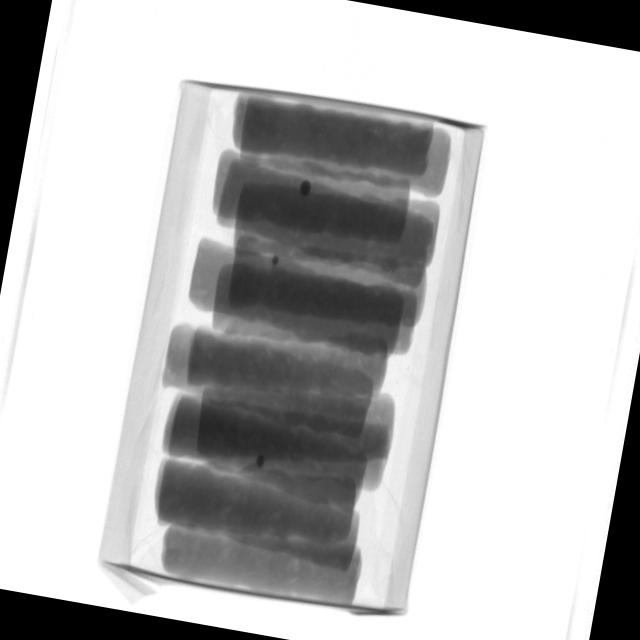ym: (299, 179, 313, 198), (255, 454, 267, 468), (273, 257, 282, 268)
